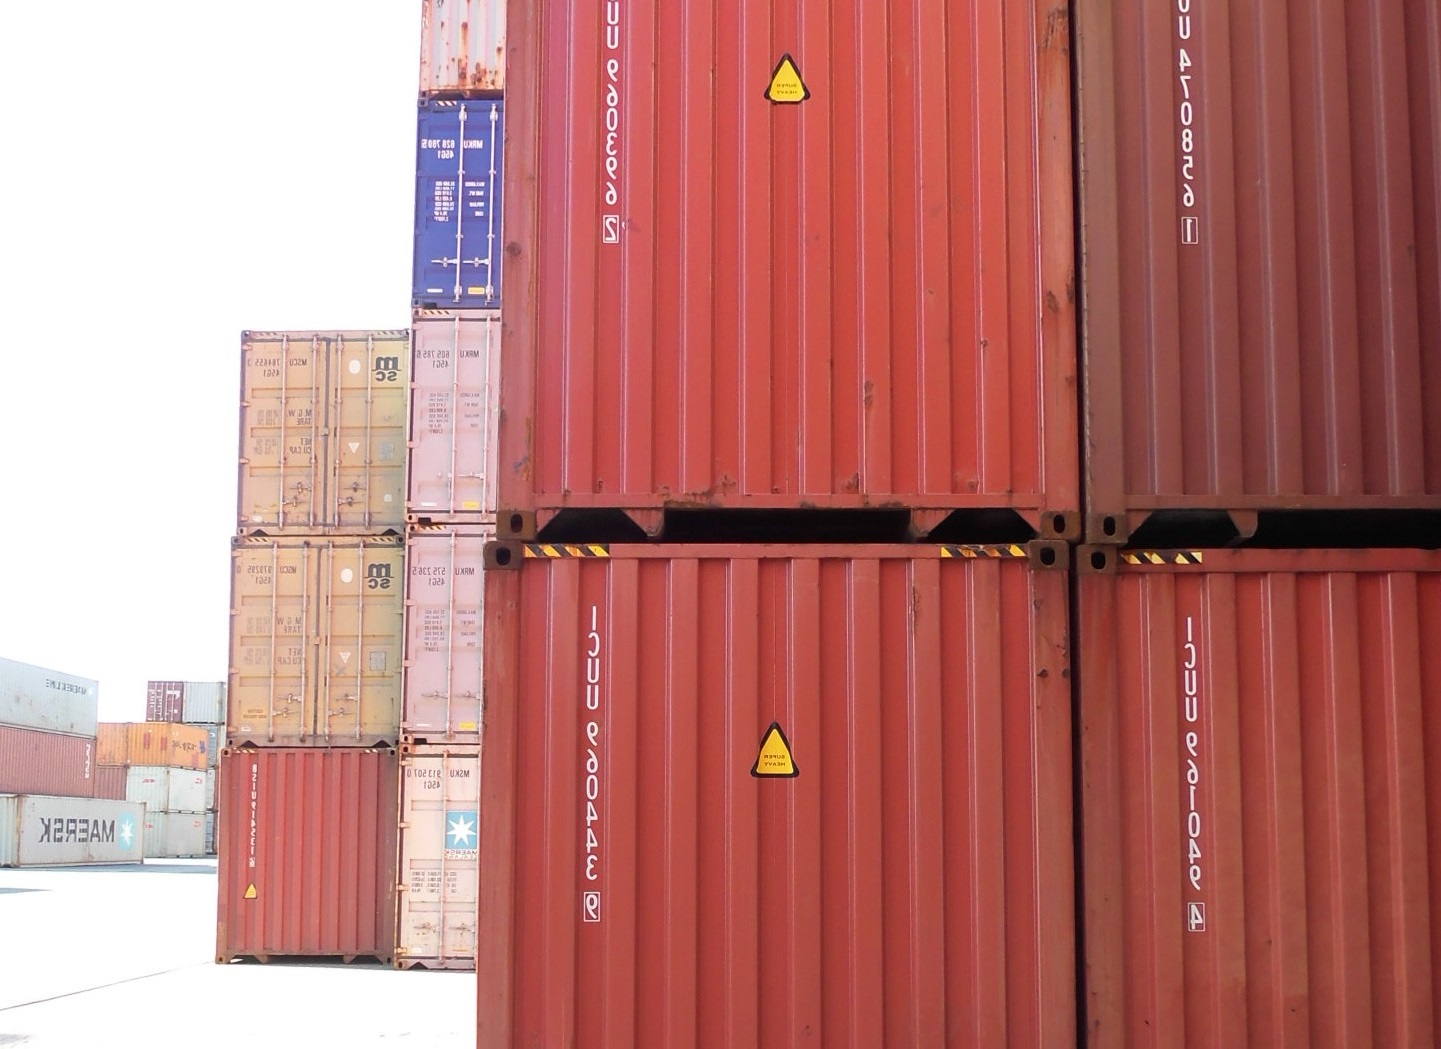container_door: (222, 744, 405, 965), (230, 536, 401, 749), (237, 324, 407, 536), (415, 98, 503, 314), (411, 312, 499, 528), (403, 749, 491, 965), (399, 530, 486, 747)
container_no_door: (492, 10, 1076, 528), (484, 530, 1068, 1048), (1086, 1, 1440, 540), (1079, 538, 1441, 1049)
